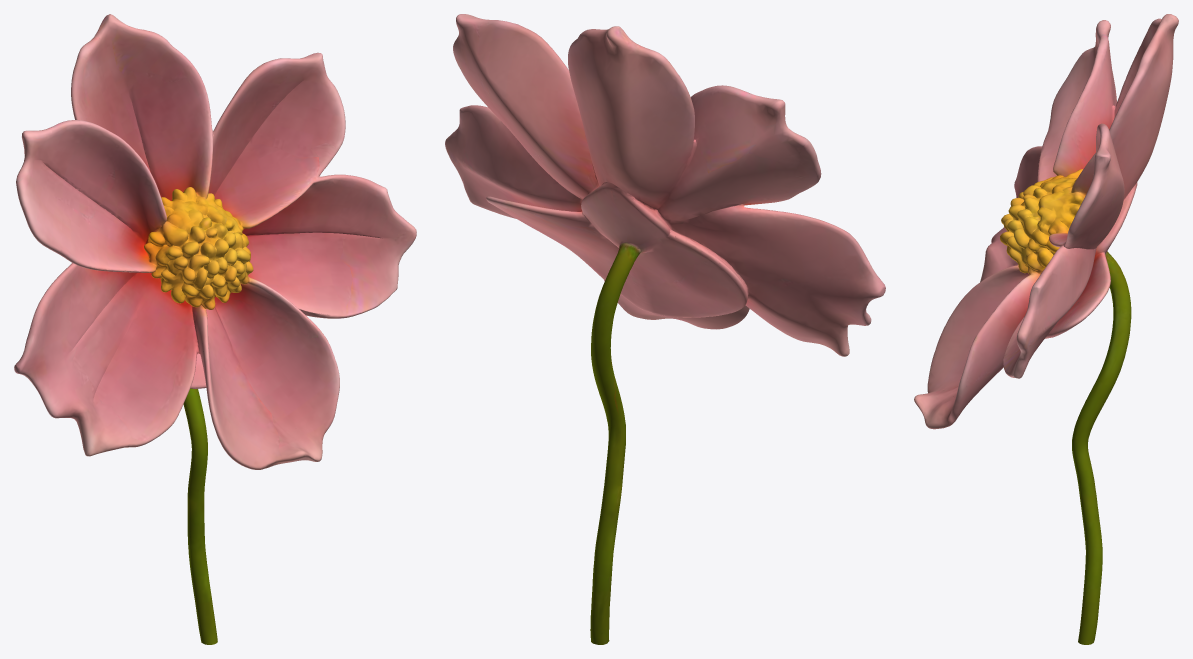
File: pink_cosmos.glb
The picture shows the model from 3 angles, left to right: view 1: azimuth 30°, elevation 25°; view 2: azimuth 150°, elevation 25°; view 3: azimuth 270°, elevation 25°; orthographic projection. The views are drawn at different scales.
Parts seen in each view (by area): view 1: model; view 2: model; view 3: model.
Part boxes in pixels (<box>): model: <box>14,14,416,644</box>; model: <box>445,14,885,644</box>; model: <box>914,14,1178,644</box>.
Bounding box in the file's own units: 1.31 × 1.91 × 0.7627.
1 material, 1 textured.
